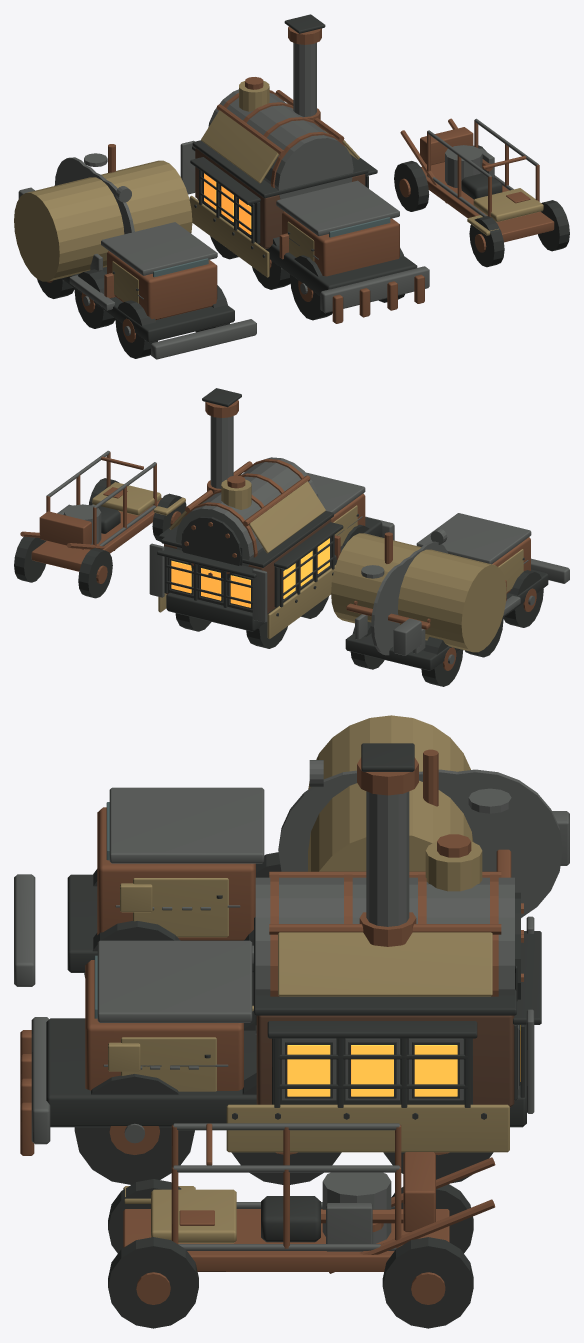
The model's file is vehicles.glb.
3 views of the same model, one above another, from view 1: azimuth 30°, elevation 25°; view 2: azimuth 150°, elevation 25°; view 3: azimuth 270°, elevation 25° (orthographic). The views are drawn at different scales.
Visible parts, largest first — view 1: Bulbous gas vessel, Boiler drum, Cab roof plate.001, Cab lower shell, Cab lower shell.001, Cab roof plate, Hanging torn furnace plate, Bess ladder chassis, Furnace armored chassis, Buggy ladder rails, Furnace side armor, Scrap ram beam (+28 smaller); view 2: Bulbous gas vessel, Boiler drum, Cab roof plate, Hanging torn furnace plate, Drum rear cap, Furnace armored chassis, Buggy ladder rails, Forged tank band, Bess ladder chassis, Furnace side armor, Crooked furnace chimney, Rear scrap rack (+34 smaller); view 3: Hanging torn furnace plate.001, Cab roof plate.001, Furnace side armor.001, Bulbous gas vessel, Cab roof plate, Furnace armored chassis, Boiler drum, Forged tank band, Buggy ladder rails, Firebox riveted box, Cab lower shell, Narrow buggy wheel.002 (+53 smaller).
Part boxes in pixels (x1=…): Bulbous gas vessel: x1=14, y1=160, x2=192, y2=281; Boiler drum: x1=208, y1=89, x2=353, y2=199; Cab roof plate.001: x1=276, y1=180, x2=399, y2=236; Cab lower shell: x1=107, y1=251, x2=217, y2=320; Cab lower shell.001: x1=282, y1=211, x2=399, y2=276; Cab roof plate: x1=101, y1=222, x2=217, y2=275; Hanging torn furnace plate: x1=201, y1=110, x2=278, y2=183; Bess ladder chassis: x1=61, y1=267, x2=234, y2=342; Furnace armored chassis: x1=197, y1=199, x2=417, y2=295; Buggy ladder rails: x1=421, y1=162, x2=554, y2=242; Furnace side armor: x1=189, y1=195, x2=269, y2=277; Scrap ram beam: x1=320, y1=266, x2=429, y2=313; Bulbous gas vessel: x1=331, y1=533, x2=506, y2=652; Boiler drum: x1=175, y1=457, x2=318, y2=566; Cab roof plate: x1=416, y1=513, x2=531, y2=564; Hanging torn furnace plate: x1=249, y1=481, x2=325, y2=553; Drum rear cap: x1=181, y1=516, x2=241, y2=580; Furnace armored chassis: x1=166, y1=517, x2=382, y2=631; Buggy ladder rails: x1=31, y1=498, x2=161, y2=571; Forged tank band: x1=371, y1=564, x2=409, y2=655; Bess ladder chassis: x1=345, y1=569, x2=548, y2=670; Furnace side armor: x1=267, y1=565, x2=335, y2=638; Crooked furnace chimney: x1=210, y1=416, x2=233, y2=488; Rear scrap rack: x1=39, y1=511, x2=91, y2=549; Hanging torn furnace plate.001: x1=278, y1=932, x2=492, y2=996; Cab roof plate.001: x1=97, y1=940, x2=252, y2=1022; Furnace side armor.001: x1=226, y1=1104, x2=509, y2=1152; Bulbous gas vessel: x1=308, y1=715, x2=473, y2=871; Cab roof plate: x1=109, y1=787, x2=264, y2=863; Furnace armored chassis: x1=46, y1=1018, x2=526, y2=1127; Boiler drum: x1=255, y1=877, x2=514, y2=1034; Forged tank band: x1=438, y1=769, x2=562, y2=917; Buggy ladder rails: x1=123, y1=1209, x2=449, y2=1271; Firebox riveted box: x1=256, y1=1015, x2=514, y2=1107; Cab lower shell: x1=97, y1=807, x2=255, y2=940; Narrow buggy wheel.002: x1=382, y1=1237, x2=473, y2=1328.
Bounding box in the file's own units: 11.21 × 5.34 × 6.47.
